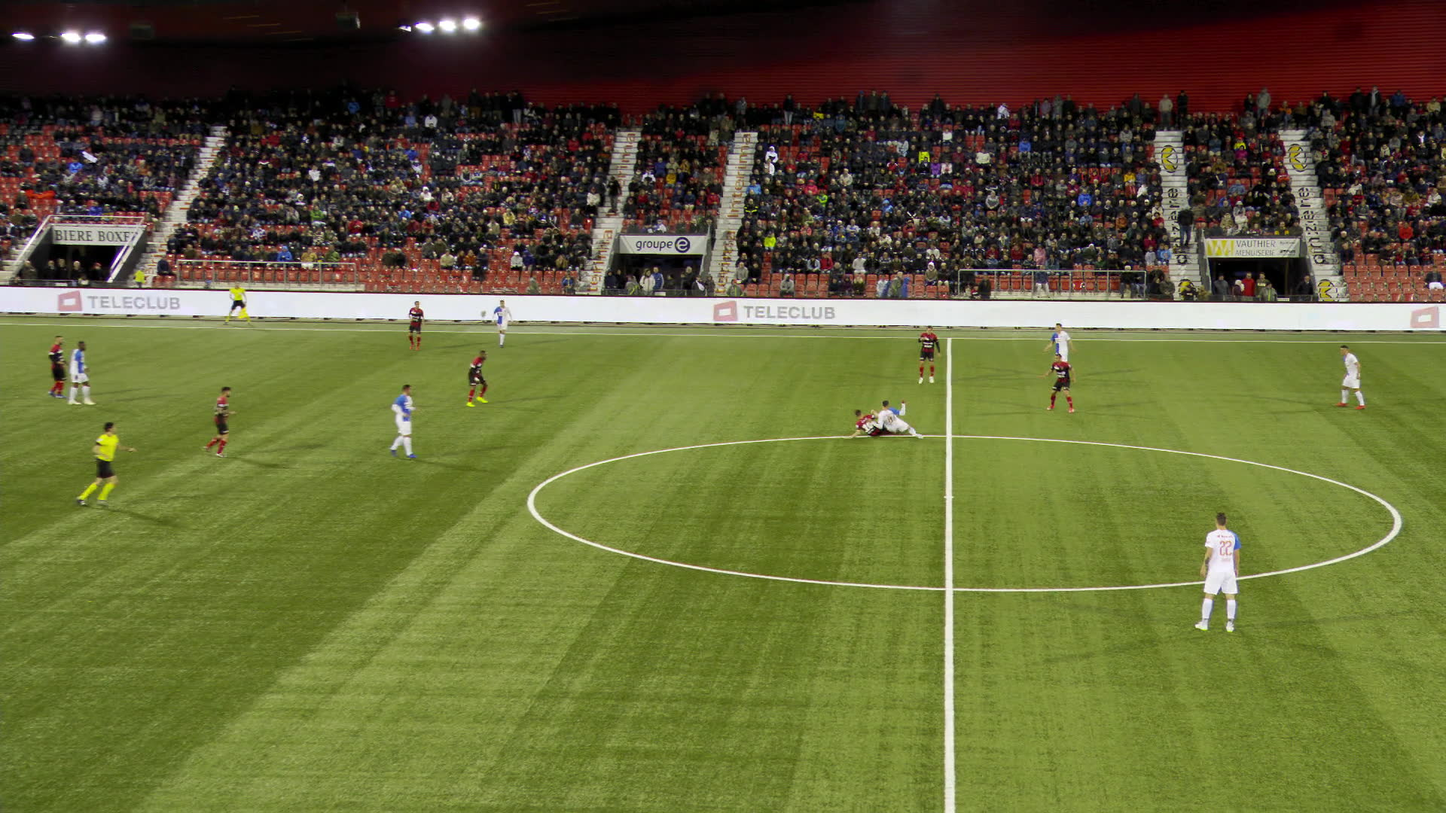player: (1193, 513, 1239, 633), (865, 397, 925, 440), (195, 383, 229, 457), (1330, 345, 1366, 410), (1039, 353, 1074, 412), (841, 403, 894, 440), (388, 386, 413, 460), (63, 340, 90, 406), (462, 346, 487, 405), (1042, 322, 1072, 365), (915, 327, 938, 383), (41, 334, 60, 399), (490, 298, 509, 346), (404, 302, 422, 350)
referee: (69, 423, 126, 508), (220, 279, 246, 325)
